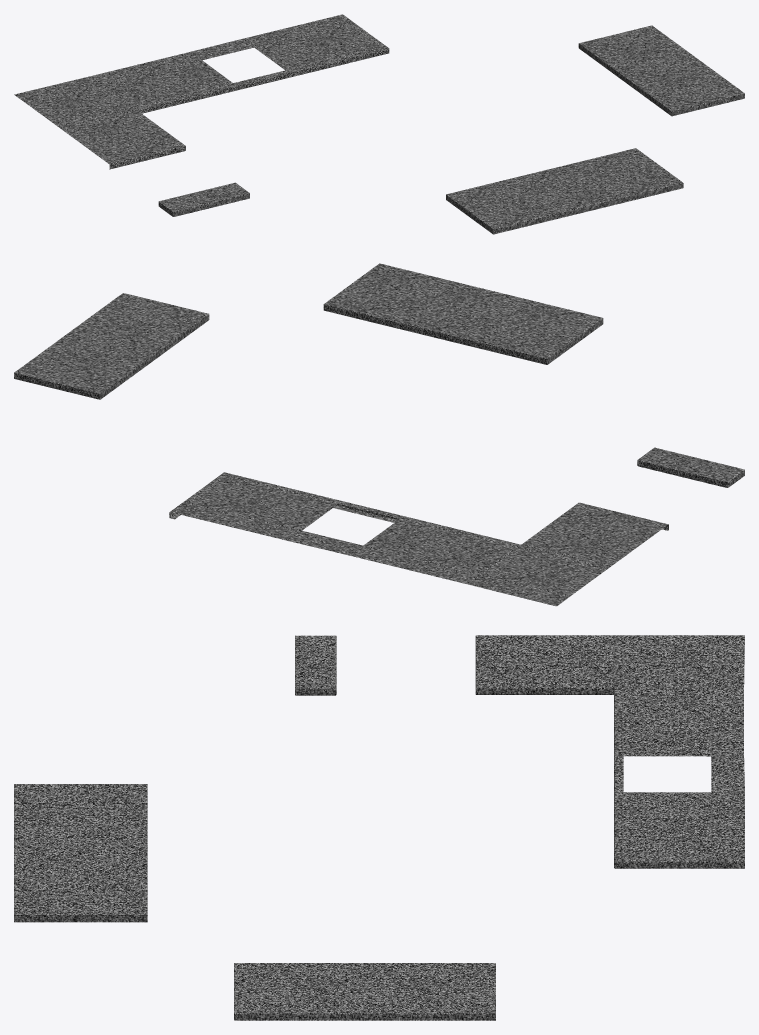
The model's file is kitchen-countertop.obj.
The picture shows the model from 3 angles, top to bottom: view 1: azimuth 30°, elevation 25°; view 2: azimuth 150°, elevation 25°; view 3: azimuth 270°, elevation 25°; orthographic projection. The views are drawn at different scales.
Parts seen in each view (by area): view 1: littleDrawerCounter_Cube.011; view 2: littleDrawerCounter_Cube.011; view 3: littleDrawerCounter_Cube.011.
Part boxes in pixels (x1,y1,x2,y2): littleDrawerCounter_Cube.011: [14, 14, 744, 234]; littleDrawerCounter_Cube.011: [14, 263, 744, 606]; littleDrawerCounter_Cube.011: [14, 635, 744, 1020].
Size of the model in its own units: 16.29 by 0.218 by 13.31.
Materials: 1 (1 with a texture image).
